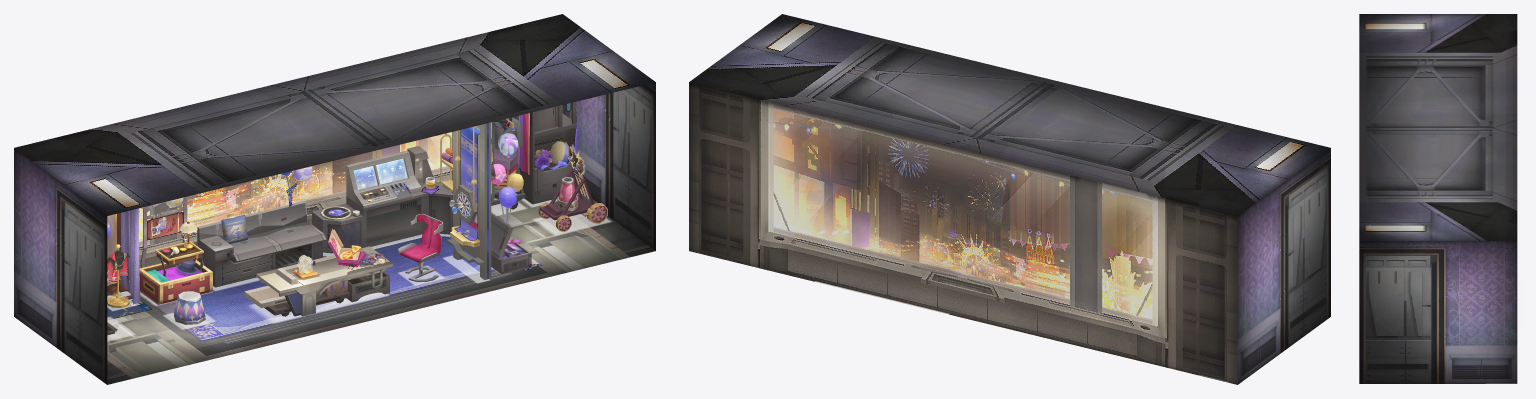
Rendered from carnival.glb.
3 views of the same model, side by side, from view 1: azimuth 30°, elevation 25°; view 2: azimuth 150°, elevation 25°; view 3: azimuth 270°, elevation 25° (orthographic). The views are drawn at different scales.
Visible parts, largest first — view 1: ROOM_room, ROOM_floor, furni_carnival_console_01, furni_carnival_sofa_01, furni_carnival_longdesk_01, furni_carnival_partitionWall_01, furni_carnival_cabinet_01, furni_carnival_cosmeticcase_01, furni_carnival_box_01, furni_carnival_changingRoom_01, furni_carnival_trolley_01, ROOM_LDoor (+16 smaller); view 2: ROOM_room, ROOM_LDoor; view 3: ROOM_room, ROOM_RDoor, shadow_01.006.
Part boxes in pixels (x1,y1,x2,y2): ROOM_room: [14, 14, 655, 384]; ROOM_floor: [107, 194, 655, 384]; furni_carnival_console_01: [312, 146, 452, 253]; furni_carnival_sofa_01: [197, 201, 326, 287]; furni_carnival_longdesk_01: [244, 246, 393, 316]; furni_carnival_partitionWall_01: [447, 122, 492, 279]; furni_carnival_cabinet_01: [519, 102, 576, 204]; furni_carnival_cosmeticcase_01: [139, 197, 212, 304]; furni_carnival_box_01: [491, 133, 531, 274]; furni_carnival_changingRoom_01: [107, 208, 140, 307]; furni_carnival_trolley_01: [538, 169, 607, 231]; ROOM_LDoor: [74, 284, 93, 374]; ROOM_room: [689, 14, 1330, 384]; ROOM_LDoor: [1298, 250, 1317, 340]; ROOM_room: [1359, 14, 1517, 383]; ROOM_RDoor: [1382, 319, 1414, 383]; shadow_01.006: [1517, 275, 1521, 330].
Size of the model in its own units: 7.53 by 2.2 by 2.26.
8 materials, 8 textured.
